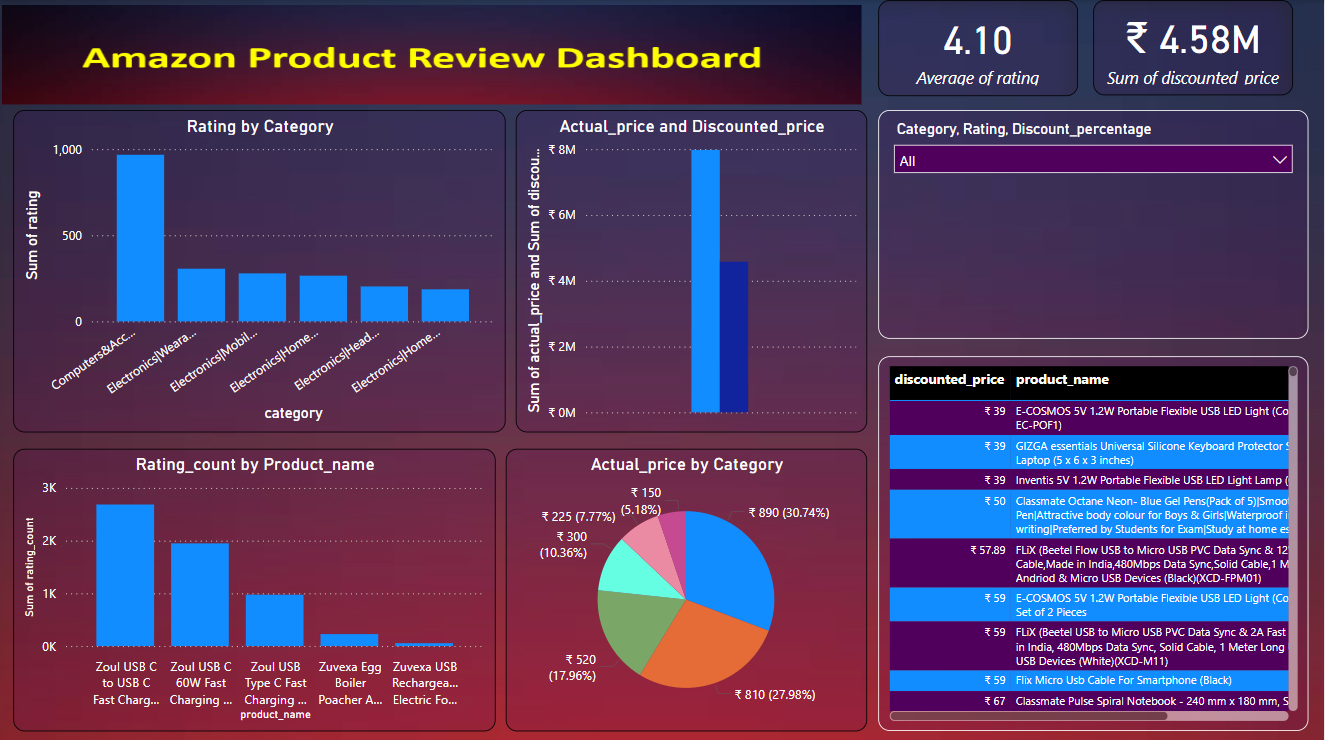

The page's visual inventory and layout, read from the dashboard file:
{"tool":"powerbi","page":{"name":"Page 1","canvas":[1280,720],"ordinal":0},"visuals":[{"type":"columnChart","title":"Rating by Category","fields":{"Category":["amazon.category"],"Y":["Sum(amazon.rating)"]},"box":[15.7,106.2,475.3,311.3],"z":0},{"type":"clusteredColumnChart","title":"Rating_count by Product_name","fields":{"Category":["amazon.product_name"],"Y":["Sum(amazon.rating_count)"]},"box":[15.7,433.1,465.7,272.7],"z":1000},{"type":"pieChart","title":"Actual_price by Category","fields":{"Category":["amazon.category"],"Y":["Sum(amazon.actual_price)"]},"box":[491,433.1,348.7,272.7],"z":2000},{"type":"lineClusteredColumnComboChart","title":"Actual_price and Discounted_price","fields":{"Y":["Sum(amazon.actual_price)","Sum(amazon.discounted_price)"]},"box":[500.7,106.2,339,311.3],"z":3000},{"type":"slicer","fields":{"Values":["amazon.category","amazon.rating","amazon.discount_percentage"]},"box":[850.5,106.2,415,220.8],"z":4000},{"type":"tableEx","fields":{"Values":["amazon.discounted_price","amazon.product_name","amazon.rating"]},"box":[850.5,343.8,415,361.9],"z":4001},{"type":"image","box":[0,0,839.7,106.2],"z":4002},{"type":"card","fields":{"Values":["Sum(amazon.discounted_price)"]},"box":[1058,0,193,92],"z":4003},{"type":"card","fields":{"Values":["Avg(amazon.rating)"]},"box":[850.5,0,193,92.9],"z":4004}]}

Visuals, with their boxes in screenshot pixels (x1, y1, x2, y2), scaled from the page's 1280x720 canvas onto the 1325x740 screenshot:
"Rating by Category" columnChart: <bbox>16, 109, 508, 429</bbox>
"Rating_count by Product_name" clusteredColumnChart: <bbox>16, 445, 498, 725</bbox>
"Actual_price by Category" pieChart: <bbox>508, 445, 869, 725</bbox>
"Actual_price and Discounted_price" lineClusteredColumnComboChart: <bbox>518, 109, 869, 429</bbox>
slicer - amazon.category x amazon.rating: <bbox>880, 109, 1310, 336</bbox>
tableEx - amazon.discounted_price x amazon.product_name: <bbox>880, 353, 1310, 725</bbox>
image: <bbox>0, 0, 869, 109</bbox>
card - Sum(amazon.discounted_price): <bbox>1095, 0, 1295, 95</bbox>
card - Avg(amazon.rating): <bbox>880, 0, 1080, 95</bbox>
